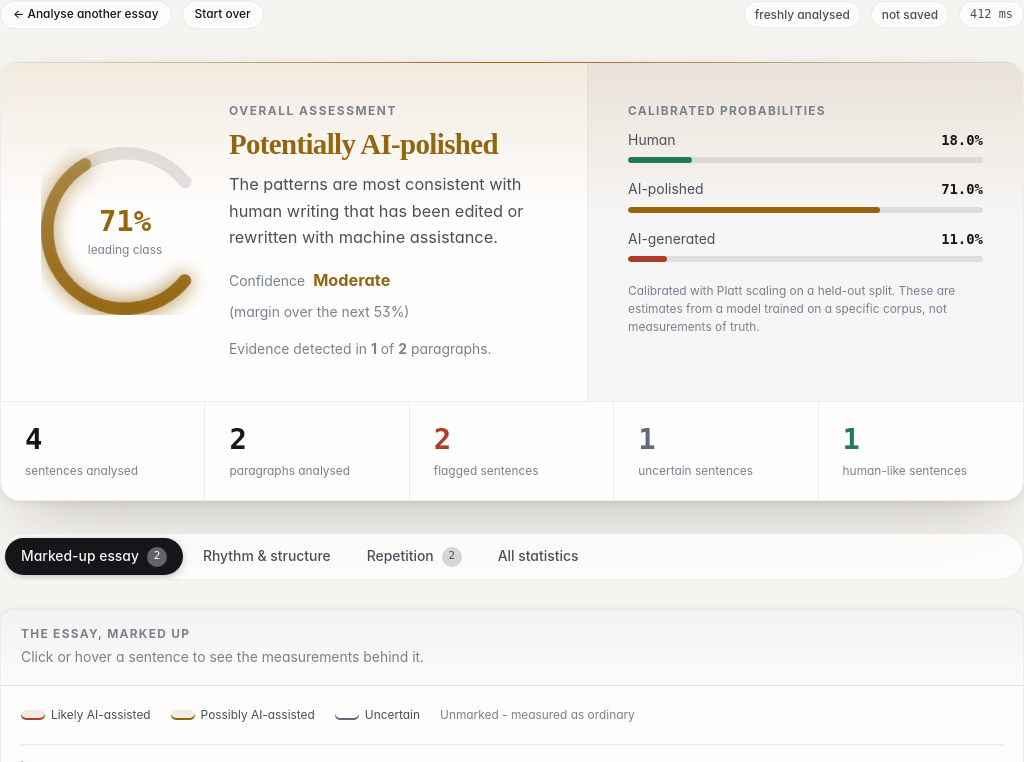
ResultsPage › switches to the rhythm tab and shows its sections
Click the tab "Rhythm & structure".
click(267, 557)  # box [187,538,347,575]
(page scrolled)
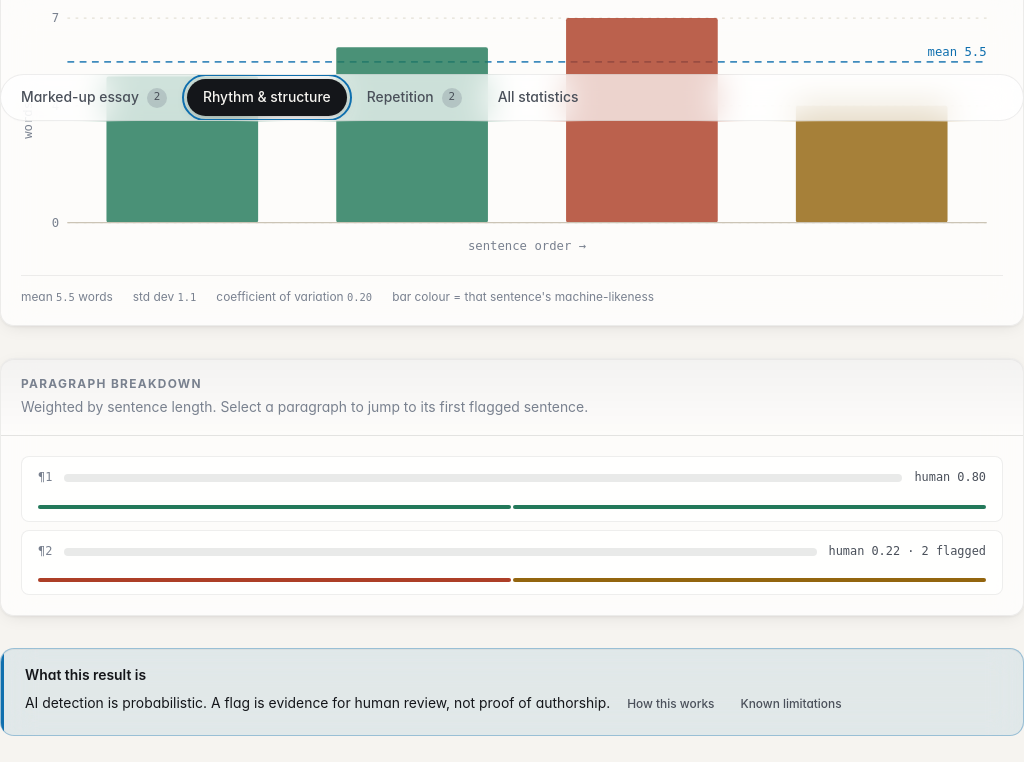
Result: the text "Paragraph breakdown" is shown at [21,376,202,391]
Result: the text "The essay, marked up" is gone
